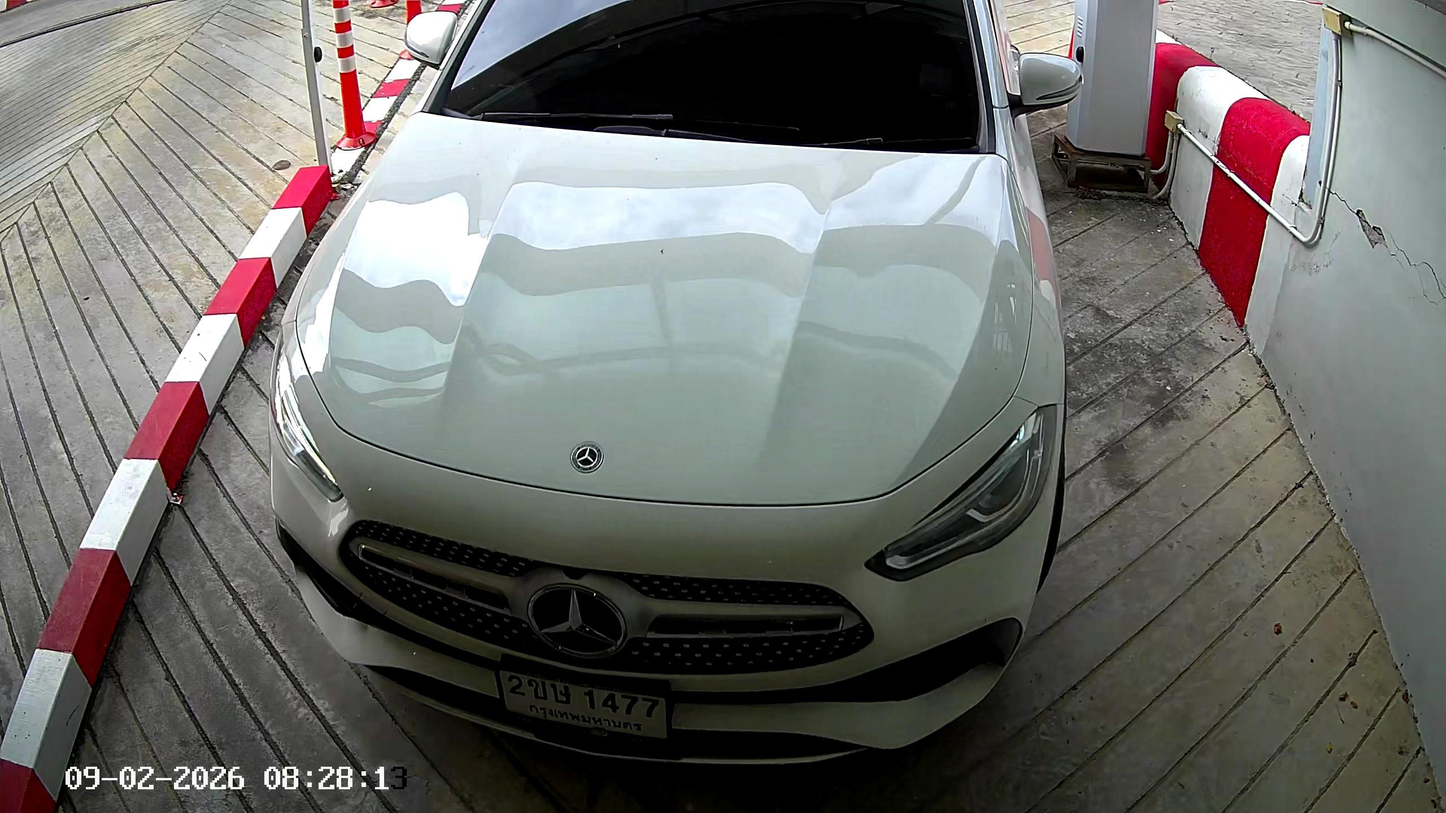car: (267, 2, 1080, 766)
license-plate: (494, 656, 672, 749)
